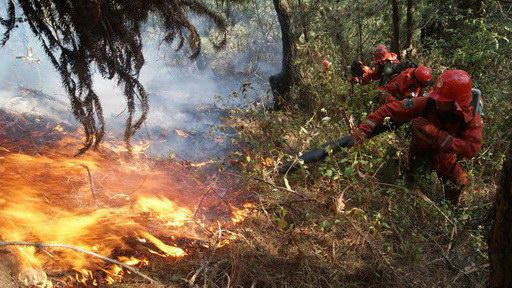fire: (1, 149, 188, 285), (229, 204, 247, 221)
